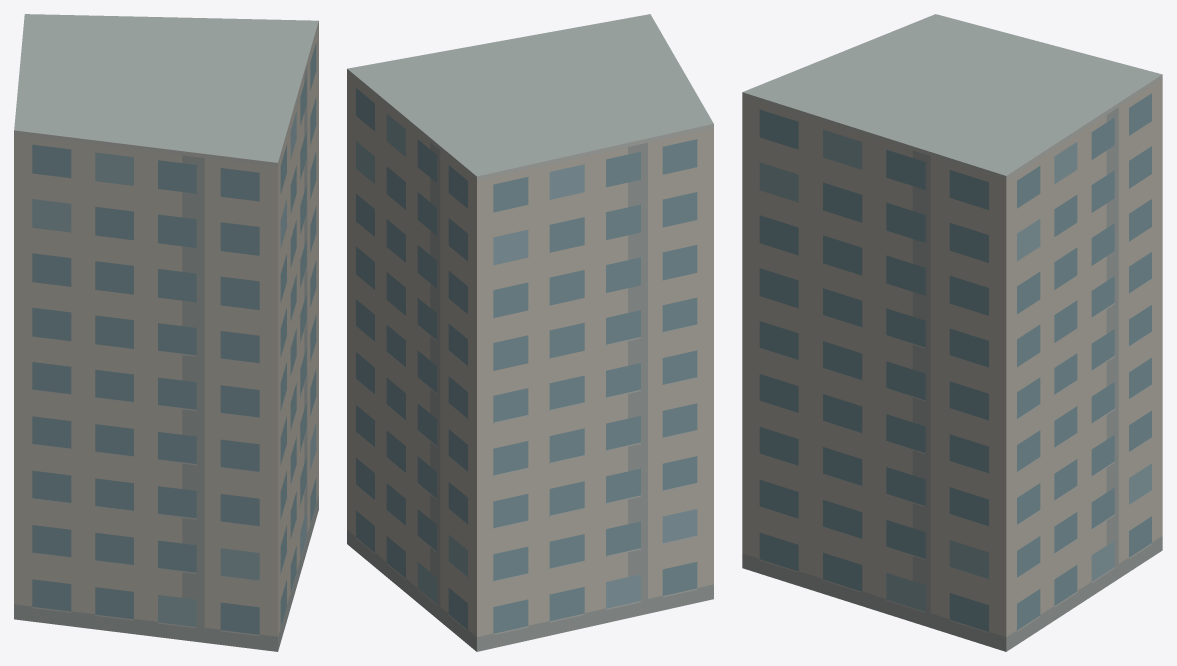
Rendered from residential-2db828f8-c5f4-4e3e-a5b7-b59935a9a3cf.glb.
3 views of the same model, side by side, from view 1: azimuth 30°, elevation 25°; view 2: azimuth 150°, elevation 25°; view 3: azimuth 270°, elevation 25° (orthographic). The views are drawn at different scales.
Parts seen in each view (by area): view 1: residential-2db828f8-c5f4-4e3e-a5b7-b59935a9a3cf.tmp; view 2: residential-2db828f8-c5f4-4e3e-a5b7-b59935a9a3cf.tmp; view 3: residential-2db828f8-c5f4-4e3e-a5b7-b59935a9a3cf.tmp.
Part boxes in pixels (box(x1,y1,x2,y2)): residential-2db828f8-c5f4-4e3e-a5b7-b59935a9a3cf.tmp: box(14, 14, 318, 651); residential-2db828f8-c5f4-4e3e-a5b7-b59935a9a3cf.tmp: box(347, 14, 713, 651); residential-2db828f8-c5f4-4e3e-a5b7-b59935a9a3cf.tmp: box(742, 14, 1162, 651).
Size of the model in its own units: 20.44 by 28 by 22.42.
